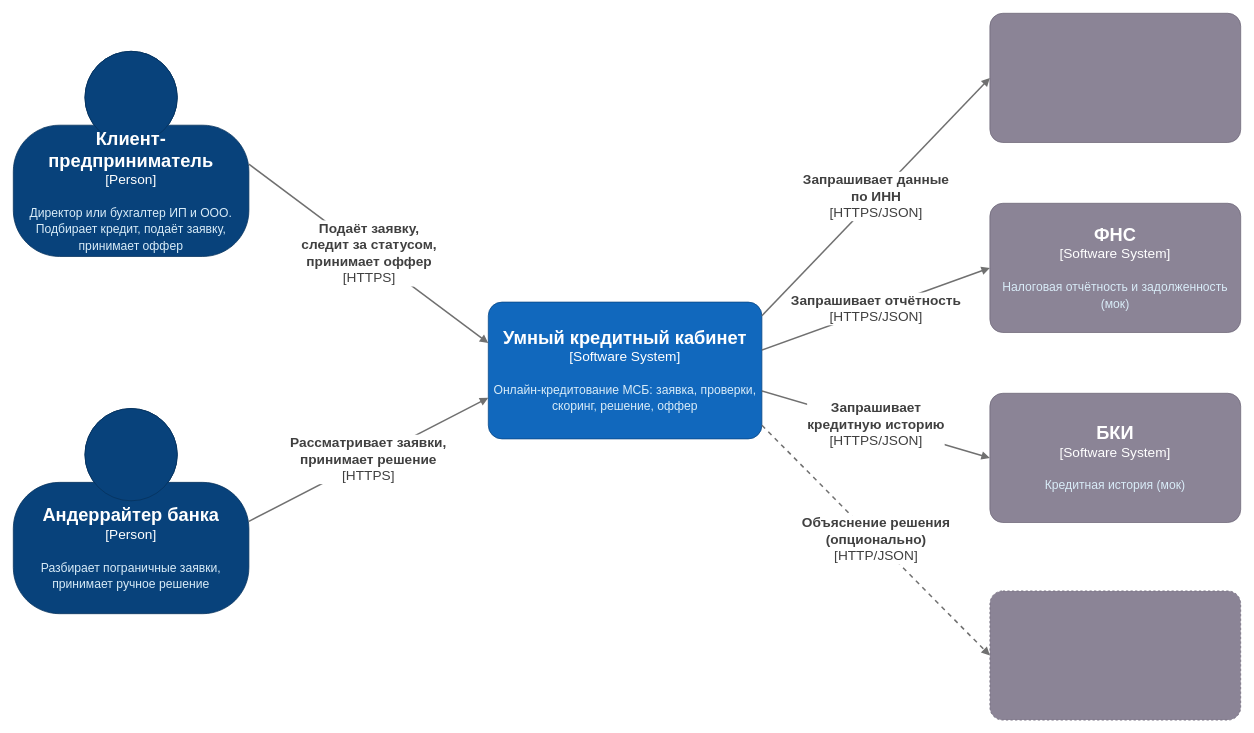
Image size: 1254x733. Some labels were removed from this diagram. The shapes that lost their labels are listed below. From the top down, each one's box as (x1, y1, x2, y2) in pixels, then its label:
(989, 13, 1241, 142): ЕГРЮЛ [Software System] Регистрационные данные компании (мок)
(989, 590, 1241, 720): Локальная LLM [Software System] Ollama, Qwen3-4B. Опционально, вне Docker
